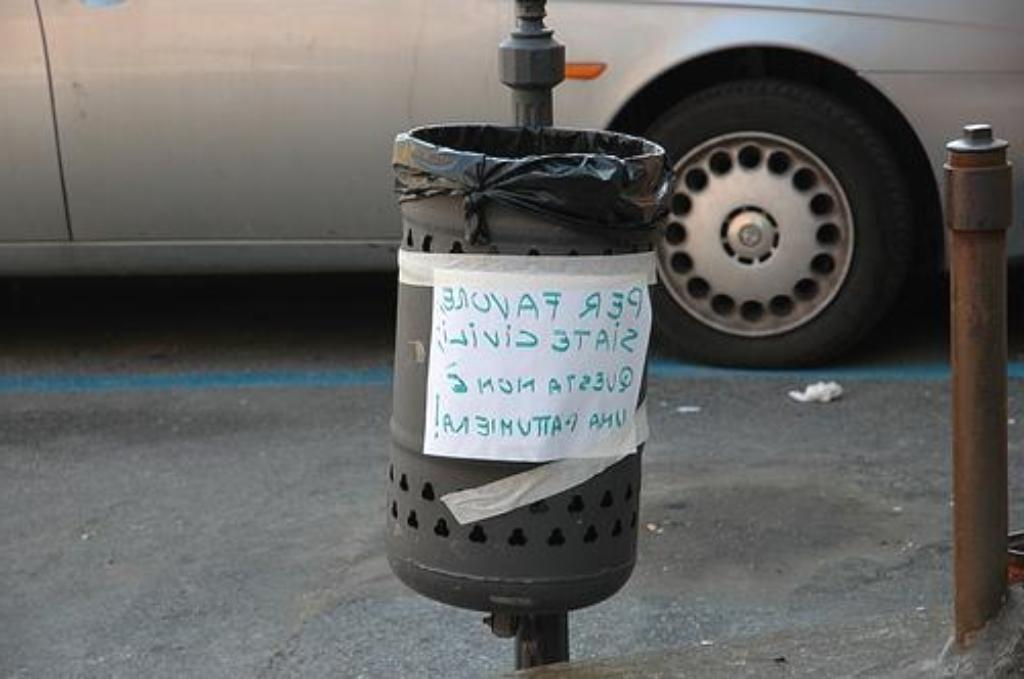dustbin: (377, 118, 680, 609)
